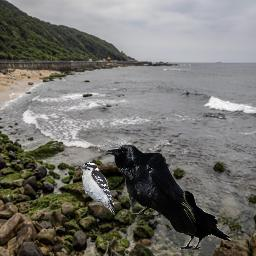Crow: (105, 144, 198, 235), (173, 190, 233, 250)
Woodpecker: (76, 162, 115, 216)
